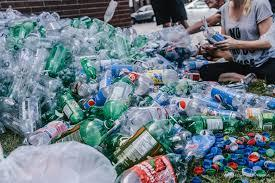Plastic bottle: (0, 12, 275, 146), (119, 156, 210, 183)
